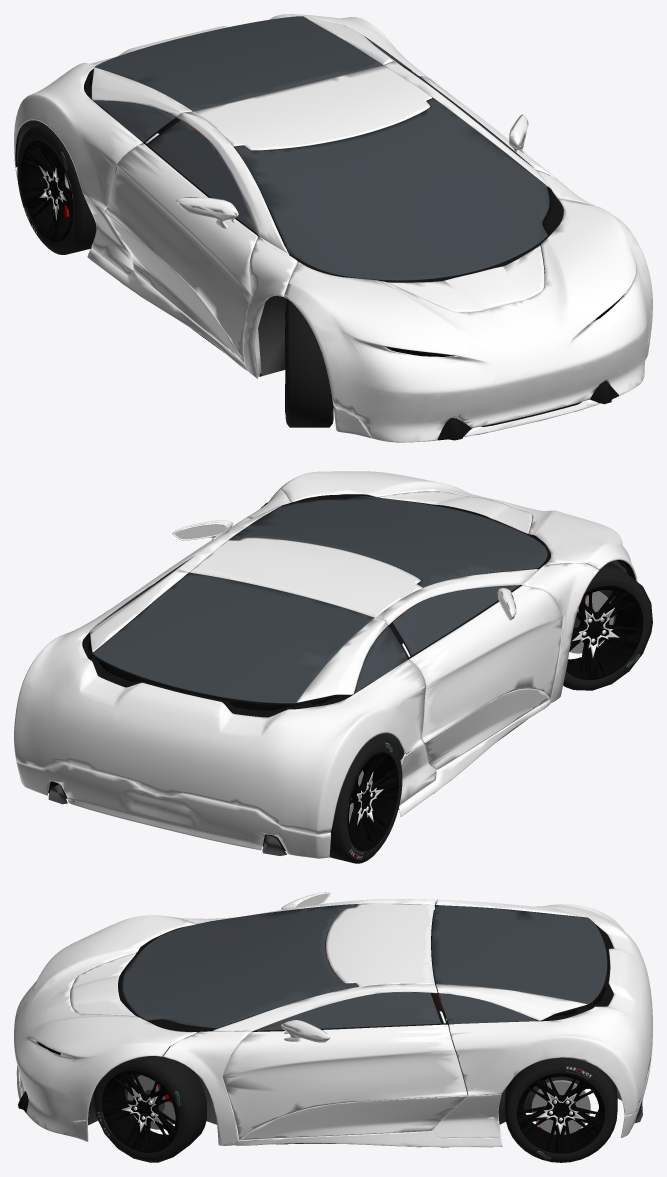
File: sports.glb
The picture shows the model from 3 angles, top to bottom: view 1: azimuth 30°, elevation 25°; view 2: azimuth 150°, elevation 25°; view 3: azimuth 270°, elevation 25°; orthographic projection. The views are drawn at different scales.
Visible parts, largest first — view 1: BodyHood, BodyWindshield, BodyRearwindow, BodyDoorRColor1, BodyRearPanelsColor1, BodyRoofPanel, BodyPillars, wheelRR, BodyPanelsColor2, BodyHoodTopgrill, object 78, BodyDoorRWindow (+7 smaller); view 2: BodyRearPanelsColor1, BodyRearwindow, BodyWindshield, BodyPanelsColor2, BodyDoorRColor1, BodyRoofPanel, BodyHood, BodyPillars, wheelRR, WheelFrontRRim, BodyDoorRColor2, BodyDoorRWindow (+6 smaller); view 3: BodyWindshield, BodyRearPanelsColor1, BodyDoorLColor1, BodyHood, BodyRearwindow, wheelRL, BodyRoofPanel, BodyPillars, BodyDoorLColor2, BodyPanelsColor2, WheelFrontLRim, BodyDoorLWindow (+10 smaller).
Boxes of the visible parts, x1,y1,x2,y2 form: BodyHood: [283, 198, 652, 442]; BodyWindshield: [234, 98, 549, 280]; BodyRearwindow: [94, 16, 382, 111]; BodyDoorRColor1: [104, 143, 257, 363]; BodyRearPanelsColor1: [14, 14, 429, 211]; BodyRoofPanel: [193, 65, 432, 150]; BodyPillars: [176, 61, 598, 378]; wheelRR: [17, 124, 96, 254]; BodyPanelsColor2: [15, 167, 651, 438]; BodyHoodTopgrill: [388, 245, 544, 312]; object 78: [286, 299, 332, 427]; BodyDoorRWindow: [148, 120, 257, 234]; BodyRearPanelsColor1: [14, 569, 425, 834]; BodyRearwindow: [92, 572, 373, 703]; BodyWindshield: [229, 496, 547, 587]; BodyPanelsColor2: [16, 700, 550, 858]; BodyDoorRColor1: [409, 585, 562, 742]; BodyRoofPanel: [189, 537, 422, 617]; BodyHood: [279, 471, 637, 581]; BodyPillars: [175, 489, 599, 702]; wheelRR: [329, 736, 402, 863]; WheelFrontRRim: [566, 585, 643, 679]; BodyDoorRColor2: [424, 688, 549, 769]; BodyDoorRWindow: [392, 585, 519, 655]; BodyWindshield: [122, 904, 358, 1028]; BodyRearPanelsColor1: [436, 899, 652, 1115]; BodyDoorLColor1: [222, 1024, 467, 1139]; BodyHood: [14, 915, 196, 1133]; BodyRearwindow: [431, 905, 607, 1004]; wheelRL: [505, 1057, 617, 1162]; BodyRoofPanel: [326, 903, 434, 986]; BodyPillars: [163, 899, 437, 1145]; BodyDoorLColor2: [240, 1096, 467, 1140]; BodyPanelsColor2: [16, 1046, 652, 1147]; WheelFrontLRim: [102, 1070, 178, 1152]; BodyDoorLWindow: [255, 992, 441, 1030].
Size of the model in its own units: 2.6 by 1.17 by 4.45.
8 materials, 1 textured.
